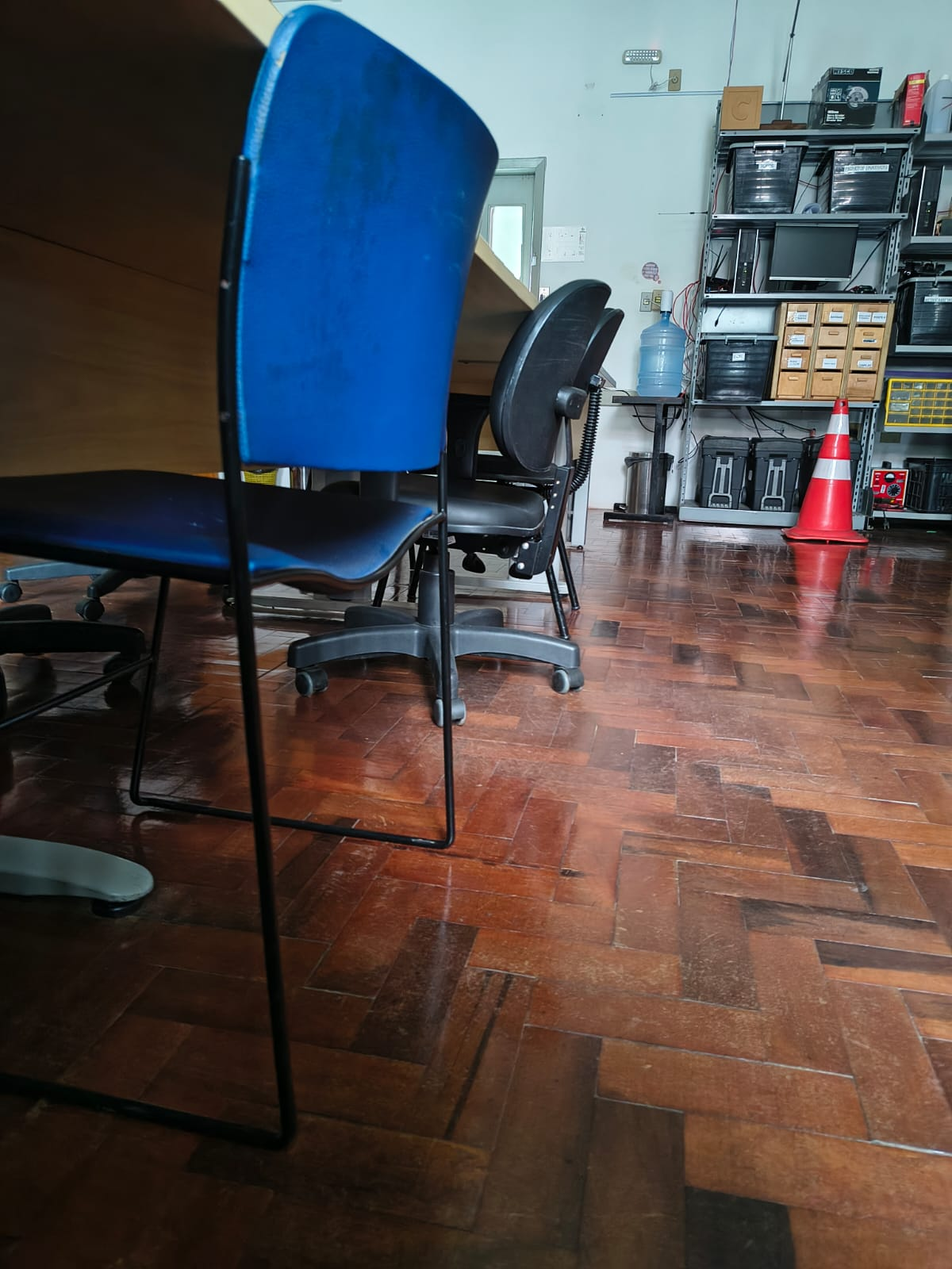cone: (777, 389, 878, 552)
